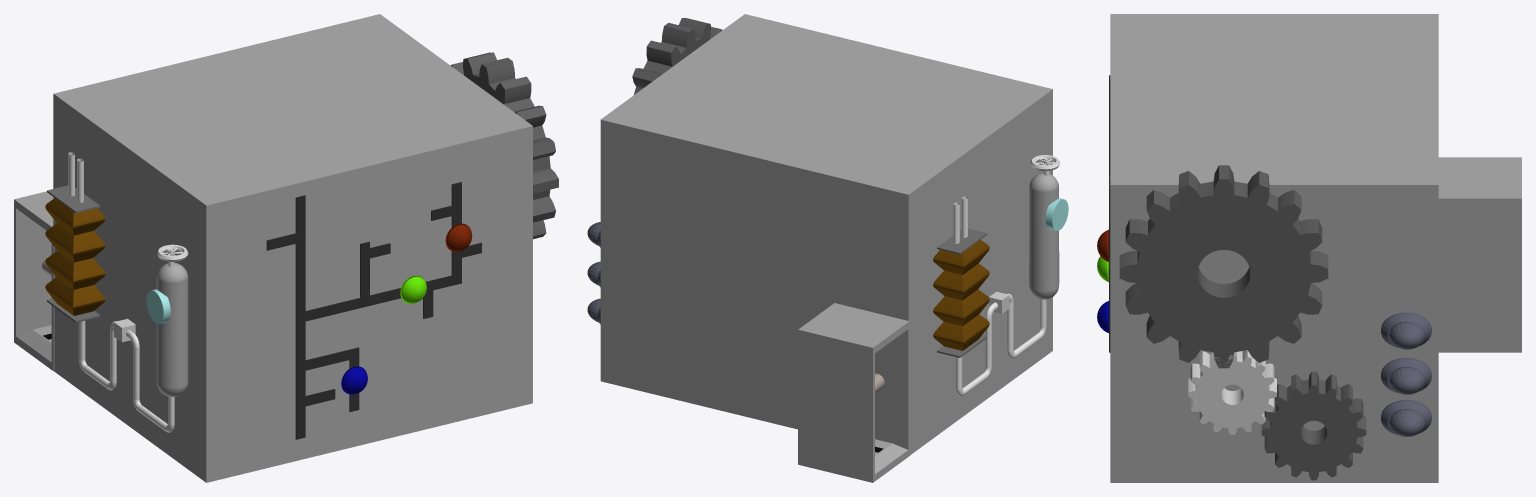
3 renders of one model, left to right at view 1: azimuth 30°, elevation 25°; view 2: azimuth 150°, elevation 25°; view 3: azimuth 270°, elevation 25°, orthographic. The views are drawn at different scales.
Visible parts, largest first — view 1: pCube16, pCube29, pCube42, pCube38, pGear1, pCylinder109, pTorus23, pSphere17, pSphere20, pSphere19; view 2: pCube16, pCube38, pCube42, pCylinder109, pGear1, pTorus23; view 3: pCube16, pGear1, pCube38, pGear3, pGear2, pCylinder105, pCylinder106, pCylinder107, pCube29.
Part boxes in pixels (box(x1,y1,x2,y2)): pCube16: box(53, 14, 532, 482); pCube29: box(266, 182, 481, 439); pCube42: box(45, 185, 105, 322); pCube38: box(14, 191, 54, 371); pGear1: box(451, 52, 558, 239); pCylinder109: box(146, 244, 188, 396); pTorus23: box(78, 318, 174, 432); pSphere17: box(400, 275, 426, 303); pSphere20: box(341, 366, 367, 394); pSphere19: box(445, 223, 472, 251); pCube16: box(600, 14, 1052, 454); pCube38: box(798, 303, 910, 482); pCube42: box(933, 228, 989, 357); pCylinder109: box(1029, 155, 1068, 299); pGear1: box(632, 18, 722, 94); pTorus23: box(956, 291, 1046, 396); pCube16: box(1110, 14, 1438, 482); pGear1: box(1119, 165, 1328, 368); pCube38: box(1438, 157, 1521, 352); pGear3: box(1261, 371, 1366, 480); pGear2: box(1188, 350, 1276, 434); pCylinder105: box(1381, 312, 1431, 349); pCylinder106: box(1381, 357, 1431, 394); pCylinder107: box(1381, 399, 1431, 436); pCube29: box(1109, 75, 1110, 352).
Bounding box in the file's own units: 28.08 × 20.48 × 24.66.
